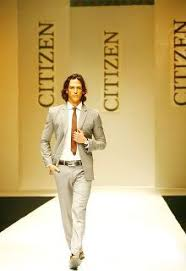F_belt: (44, 156, 96, 174)
F_tie: (67, 104, 80, 158)
